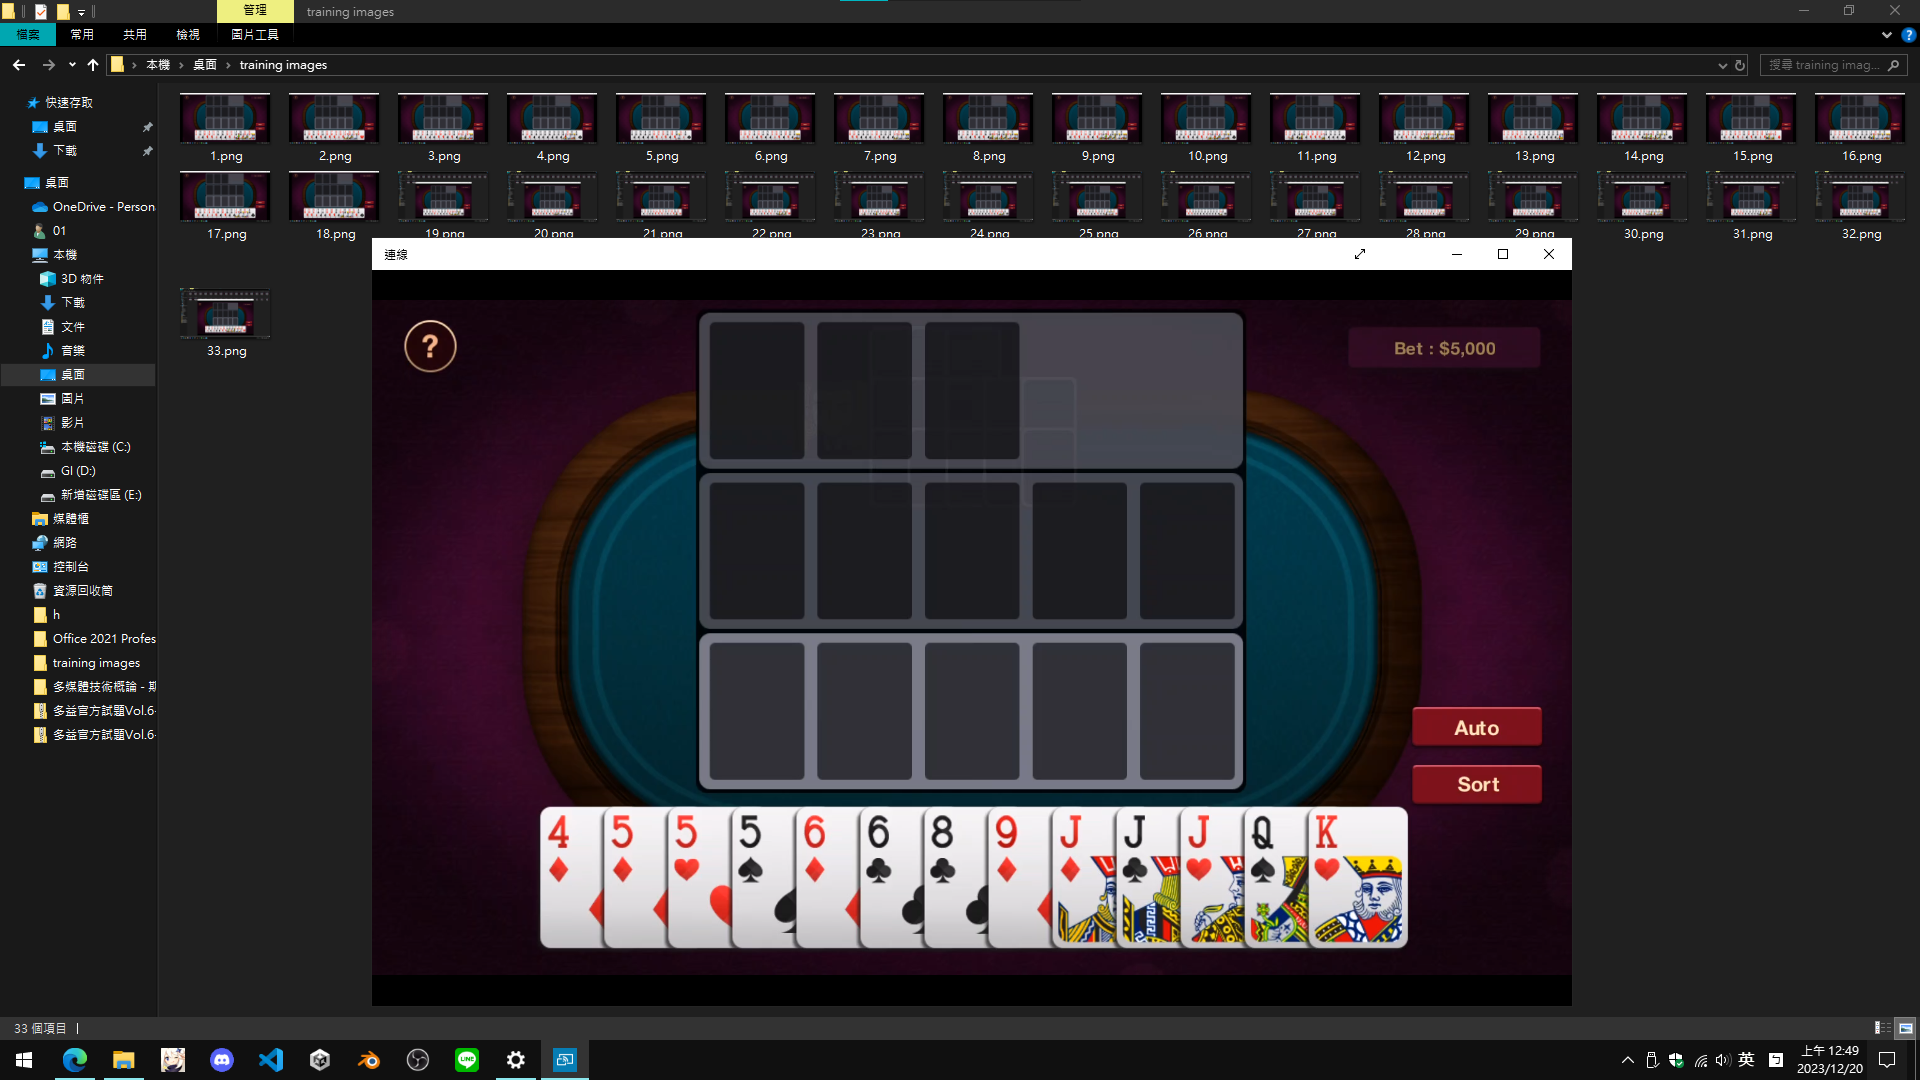4D: (545, 811, 572, 893)
5D: (608, 811, 637, 885)
5H: (673, 812, 703, 885)
5S: (737, 811, 764, 886)
6C: (864, 811, 894, 886)
6D: (800, 810, 831, 885)
8C: (927, 810, 959, 891)
9D: (992, 812, 1022, 887)
JC: (1121, 811, 1151, 886)
JD: (1056, 811, 1085, 885)
JH: (1185, 812, 1213, 885)
KH: (1312, 811, 1342, 885)
QS: (1247, 811, 1280, 885)
